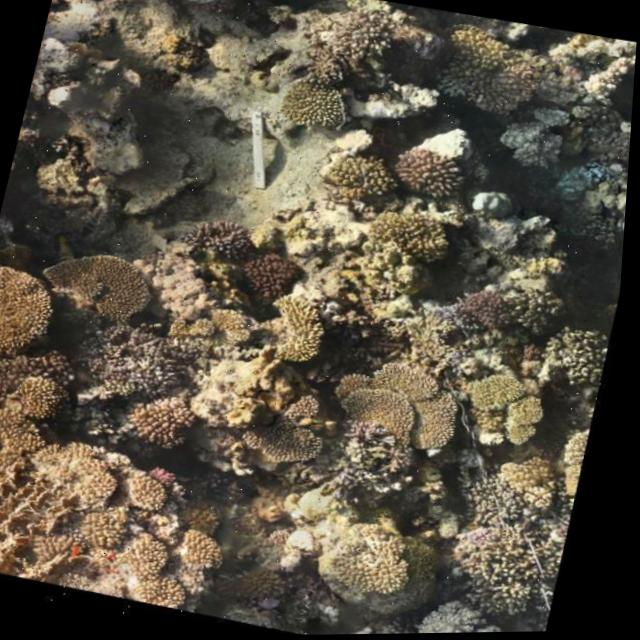Bleached Coral: (498, 98, 588, 181), (420, 593, 503, 635)
Healthy Coral: (0, 437, 254, 622), (0, 257, 86, 494), (325, 341, 475, 451), (25, 234, 168, 336), (460, 347, 563, 461), (237, 393, 344, 481), (386, 124, 480, 208), (127, 382, 193, 467), (359, 197, 452, 256), (219, 239, 307, 301), (271, 298, 338, 374), (273, 71, 354, 130), (320, 144, 378, 197), (457, 280, 517, 329)
